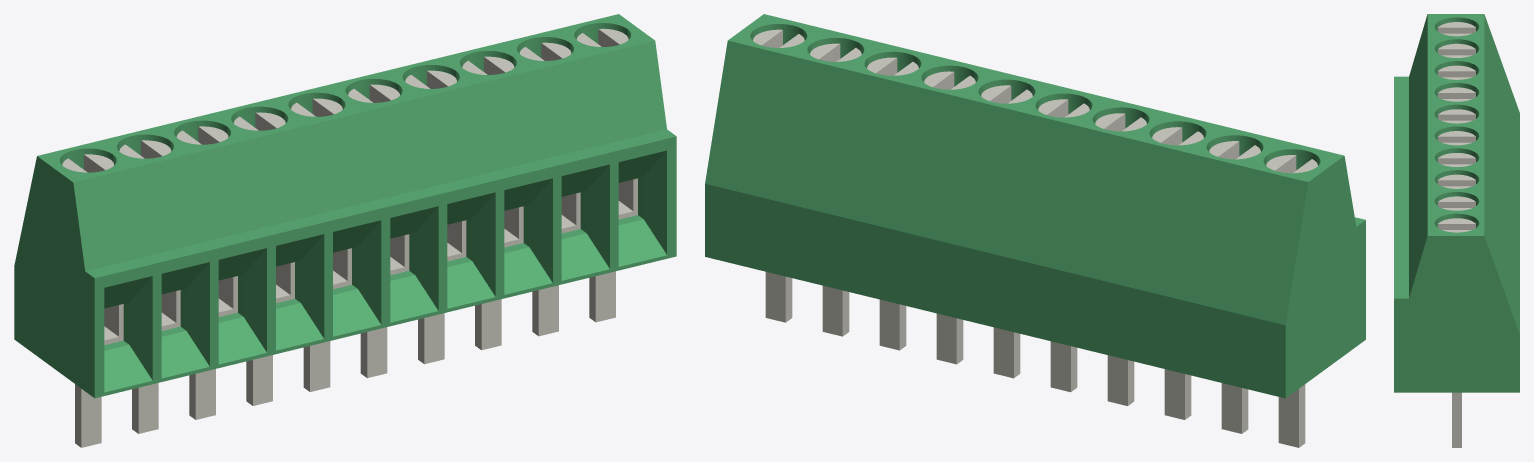
Rendered from kc-terminalblock_phoenix_mpt-0_5-10-2.54_1x10_p2.54mm_horizontal.glb.
3 renders of one model, left to right at view 1: azimuth 30°, elevation 25°; view 2: azimuth 150°, elevation 25°; view 3: azimuth 270°, elevation 25°, orthographic. The views are drawn at different scales.
Visible parts, largest first — view 1: 0.08333333333333333_0.4166666666666667_0.16666666666666666_0, 0.6666666666666666_0.6666666666666666_0.5833333333333334_0.8; view 2: 0.08333333333333333_0.4166666666666667_0.16666666666666666_0, 0.6666666666666666_0.6666666666666666_0.5833333333333334_0.8; view 3: 0.08333333333333333_0.4166666666666667_0.16666666666666666_0, 0.6666666666666666_0.6666666666666666_0.5833333333333334_0.8.
Part boxes in pixels (x1=…): 0.08333333333333333_0.4166666666666667_0.16666666666666666_0: x1=14, y1=14, x2=676, y2=398; 0.6666666666666666_0.6666666666666666_0.5833333333333334_0.8: x1=62, y1=28, x2=637, y2=447; 0.08333333333333333_0.4166666666666667_0.16666666666666666_0: x1=705, y1=14, x2=1365, y2=398; 0.6666666666666666_0.6666666666666666_0.5833333333333334_0.8: x1=753, y1=29, x2=1317, y2=447; 0.08333333333333333_0.4166666666666667_0.16666666666666666_0: x1=1394, y1=14, x2=1519, y2=392; 0.6666666666666666_0.6666666666666666_0.5833333333333334_0.8: x1=1438, y1=22, x2=1475, y2=447.
Size of the model in its own units: 2.59 by 1.2 by 0.62.
